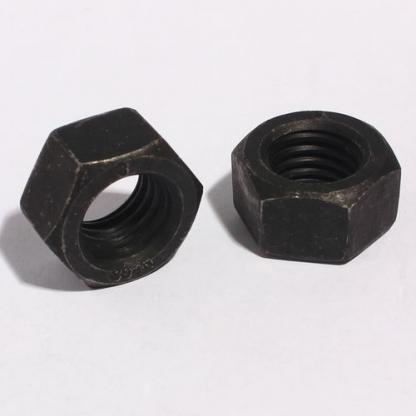FOD: (17, 105, 205, 291), (228, 108, 403, 266)
